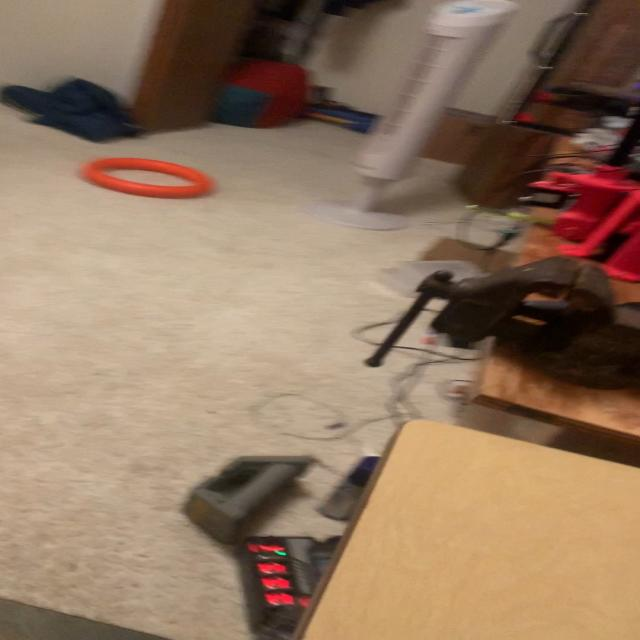notes: (84, 161, 218, 200)
